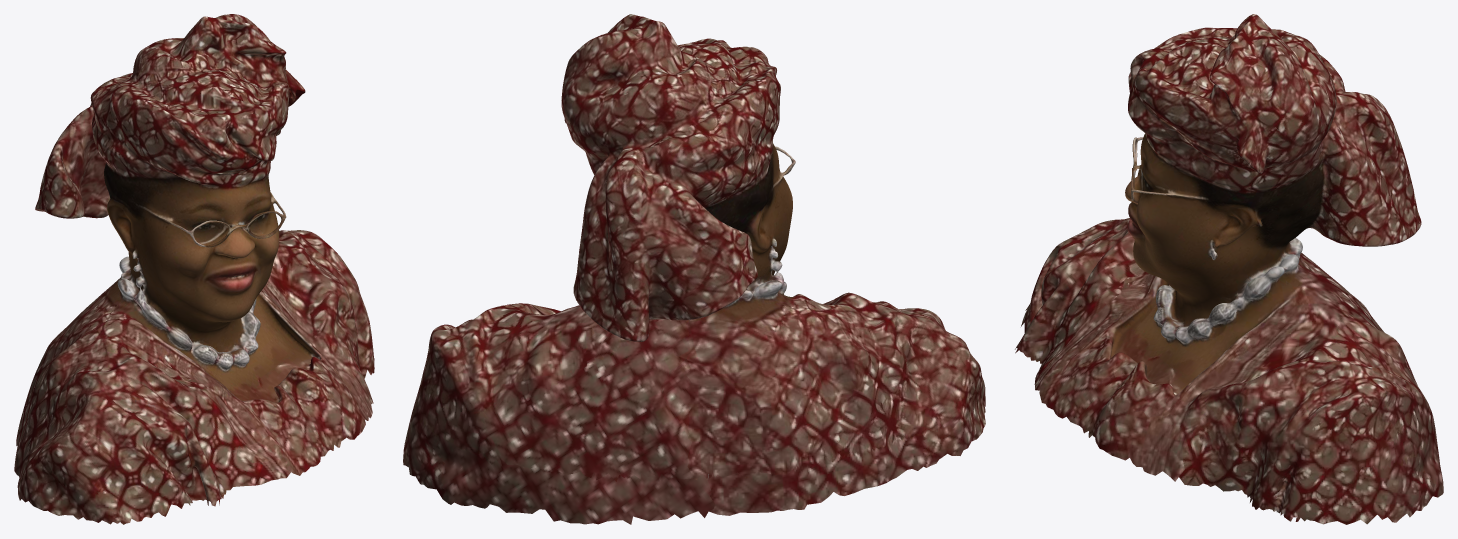
File: ngozi-user-optimized.glb
3 renders of one model, left to right at view 1: azimuth 30°, elevation 25°; view 2: azimuth 150°, elevation 25°; view 3: azimuth 270°, elevation 25°, orthographic. The views are drawn at different scales.
Visible parts, largest first — view 1: Mesh_0; view 2: Mesh_0; view 3: Mesh_0.
Boxes of the visible parts, x1,y1,x2,y2 form: Mesh_0: [14, 14, 374, 524]; Mesh_0: [403, 14, 985, 524]; Mesh_0: [1015, 14, 1443, 524].
Size of the model in its own units: 1.19 by 1.12 by 1.02.
1 material, 1 textured.
